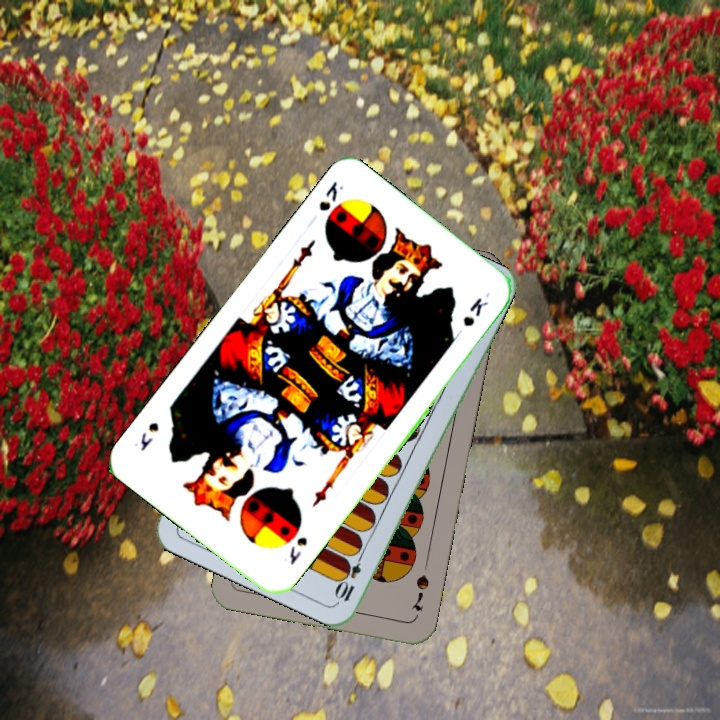E10: (333, 547, 367, 604)
S7: (408, 570, 432, 614)
SK: (314, 177, 347, 214), (285, 532, 310, 568)
